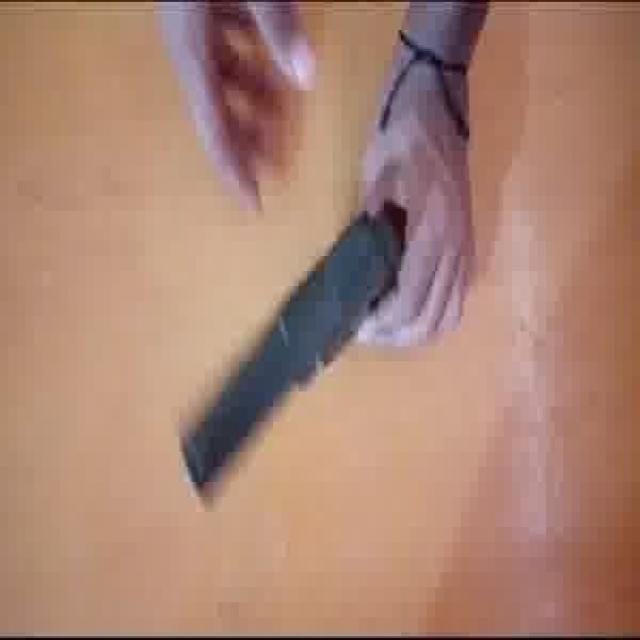weapon: (178, 197, 408, 498)
